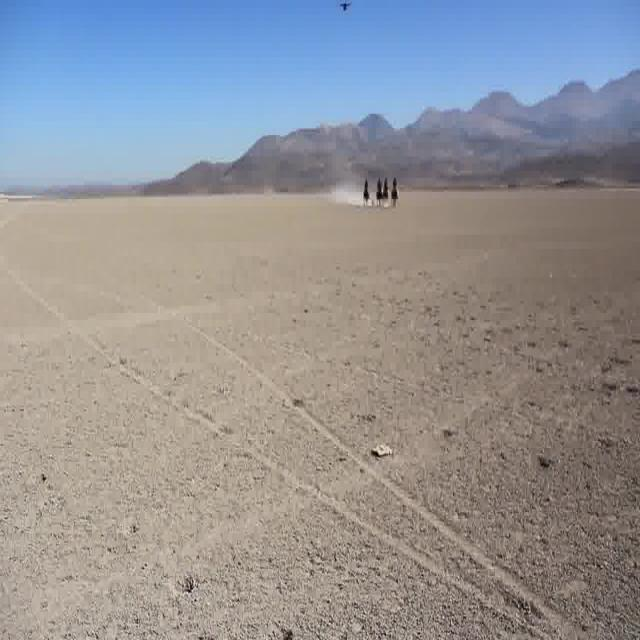drones: (333, 0, 359, 19)
